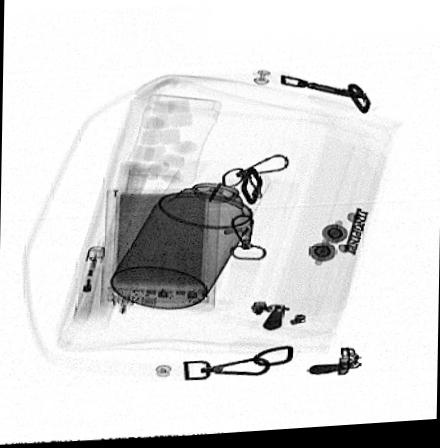Lighter: (71, 245, 106, 322)
Powerbank: (103, 191, 222, 315)
Sprayer: (109, 162, 268, 313)
